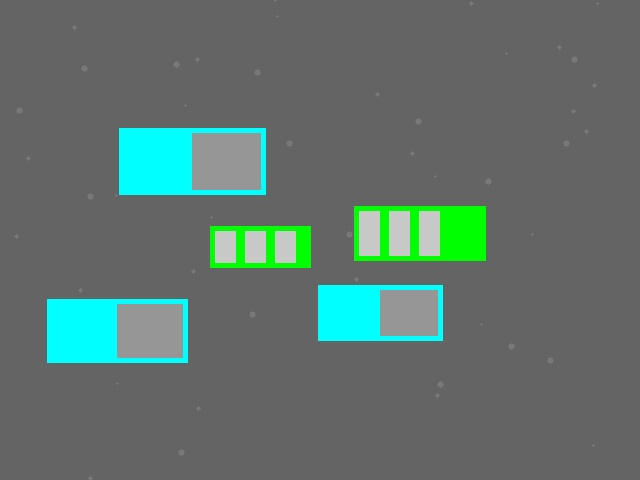bus: (354, 206, 485, 260), (210, 226, 310, 267)
truck: (119, 128, 265, 194), (47, 299, 187, 362), (318, 285, 442, 340)
